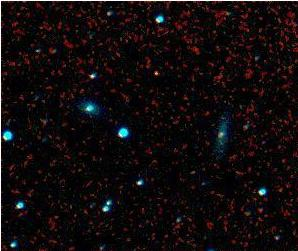star: (142, 59, 172, 89)
